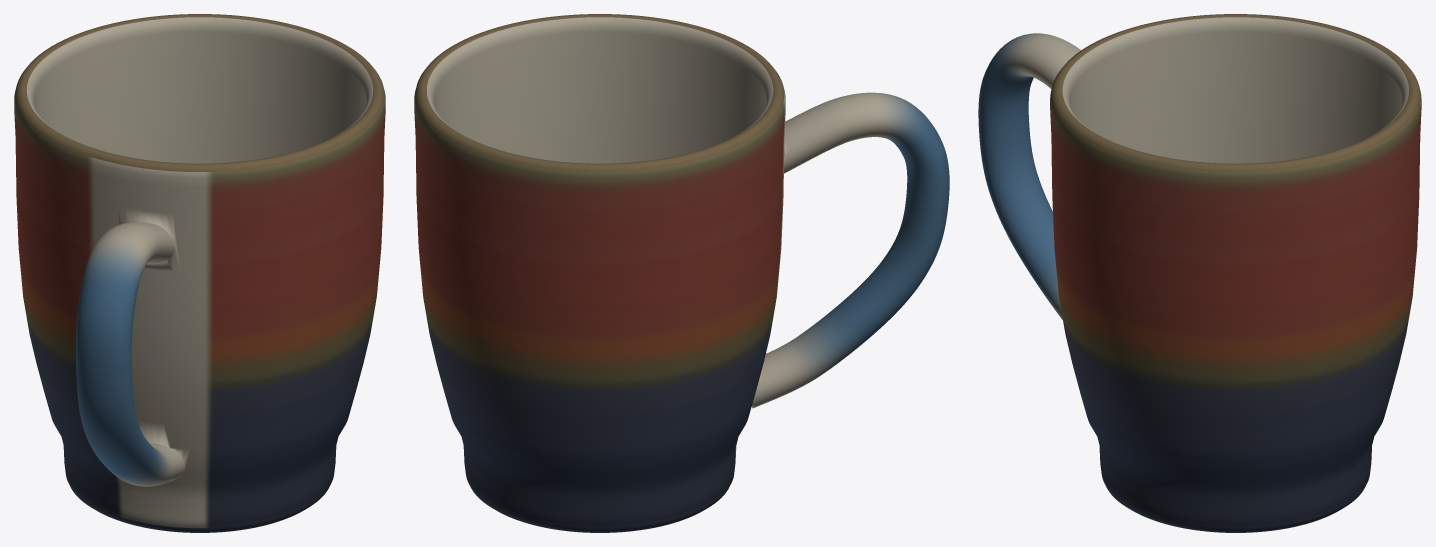
File: colorful_mug.glb
3 views of the same model, side by side, from view 1: azimuth 30°, elevation 25°; view 2: azimuth 150°, elevation 25°; view 3: azimuth 270°, elevation 25° (orthographic).
Parts seen in each view (by area): view 1: Colorful Mug; view 2: Colorful Mug; view 3: Colorful Mug.
Part boxes in pixels (x1=…): Colorful Mug: x1=14, y1=14, x2=385, y2=532; Colorful Mug: x1=414, y1=14, x2=949, y2=532; Colorful Mug: x1=978, y1=14, x2=1421, y2=532.
Bounding box in the file's own units: 0.1055 × 0.1 × 0.1026.
Materials: 5 (1 with a texture image).
